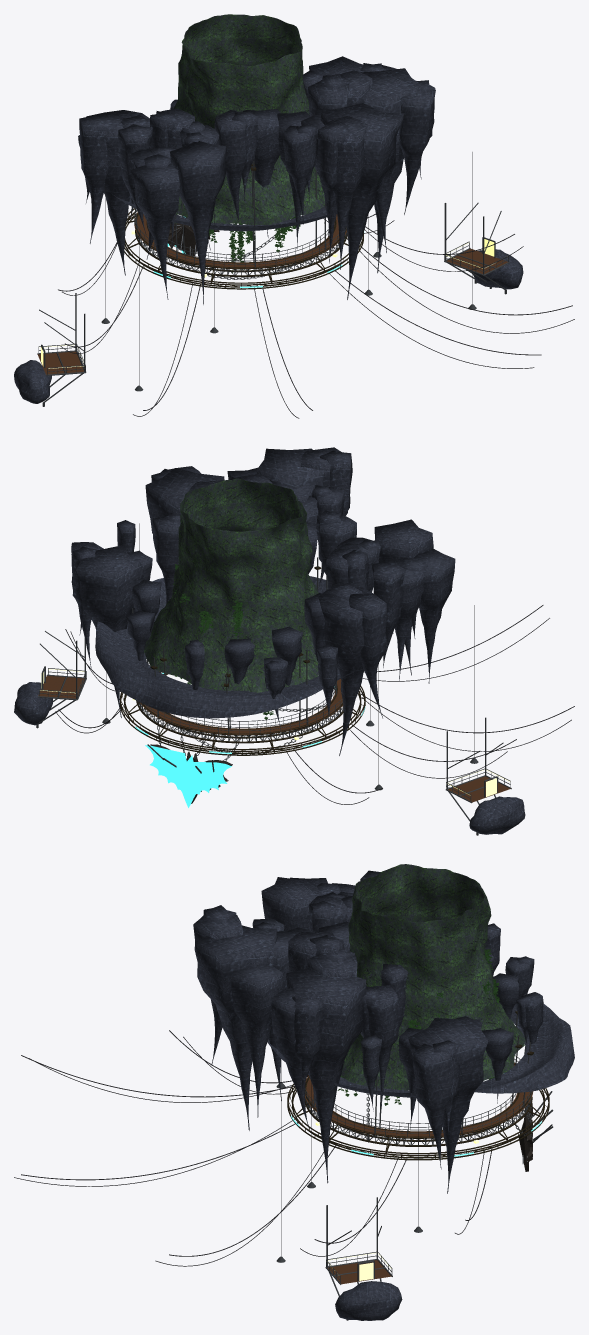
Rendered from area_teto.glb.
3 views of the same model, one above another, from view 1: azimuth 30°, elevation 25°; view 2: azimuth 150°, elevation 25°; view 3: azimuth 270°, elevation 25° (orthographic). The views are drawn at different scales.
Visible parts, largest first — view 1: TET_oculo_garganta, TET_est_031, TET_est_003, TET_est_023, TET_est_006, TET_est_032, TET_cabos, TET_est_013, TET_est_005, TET_est_001, TET_anel_externo, TET_est_027 (+25 smaller); view 2: TET_oculo_garganta, TET_oculo_beico, TET_est_031, TET_est_022, TET_morcego_brilho, TET_est_032, TET_anel_externo, TET_cabos, TET_est_006, TET_est_001, TET_est_030, TET_est_003 (+29 smaller); view 3: TET_oculo_garganta, TET_est_001, TET_est_003, TET_oculo_beico, TET_est_022, TET_est_005, TET_est_026, TET_est_024, TET_cabos, TET_anel_externo, TET_est_010, TET_est_006 (+19 smaller).
Part boxes in pixels (x1,y1,x2,y2): TET_oculo_garganta: (173,14,324,224); TET_est_031: (79,110,151,275); TET_est_003: (320,103,402,299); TET_est_023: (318,116,367,269); TET_est_006: (170,141,225,304); TET_est_032: (130,163,179,299); TET_cabos: (58,213,574,418); TET_est_013: (214,110,257,224); TET_est_005: (399,80,435,214); TET_est_001: (360,68,423,273); TET_anel_externo: (124,208,363,289); TET_est_027: (283,124,316,224); TET_oculo_garganta: (144,478,318,692); TET_oculo_beico: (95,576,353,718); TET_est_031: (318,582,387,755); TET_est_022: (76,545,143,717); TET_morcego_brilho: (145,745,231,807); TET_est_032: (406,549,455,683); TET_anel_externo: (119,665,365,755); TET_cabos: (55,572,574,804); TET_est_006: (374,519,433,675); TET_est_001: (145,468,224,533); TET_est_030: (380,557,427,680); TET_est_003: (257,448,323,489); TET_oculo_garganta: (341,864,525,1090); TET_est_001: (286,968,366,1183); TET_est_003: (195,925,277,1130); TET_oculo_beico: (267,994,574,1097); TET_est_022: (408,1018,488,1193); TET_est_005: (271,988,324,1127); TET_est_026: (231,966,282,1117); TET_est_024: (413,1040,460,1169); TET_cabos: (14,1030,492,1266); TET_anel_externo: (287,1062,549,1160); TET_est_010: (360,985,398,1108); TET_est_006: (261,877,323,930).
Bounding box in the file's own units: 80.79 × 44.41 × 73.49.
Materials: 13 (6 with a texture image).
